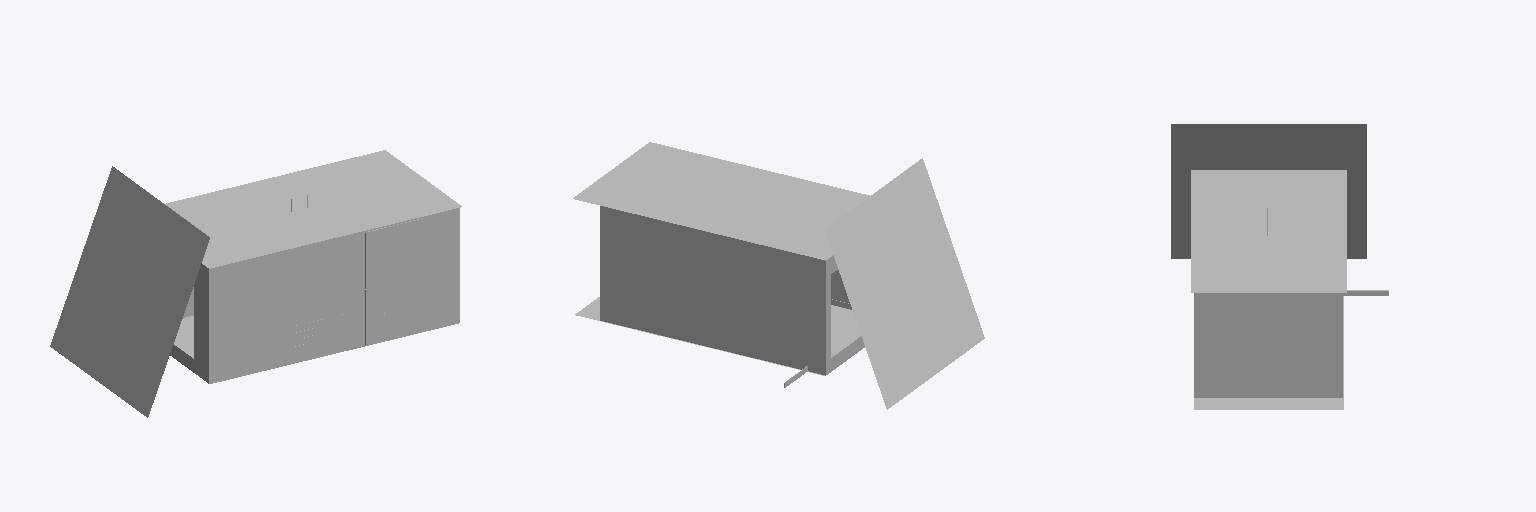
File: dining_room.obj
3 views of the same model, side by side, from view 1: azimuth 30°, elevation 25°; view 2: azimuth 150°, elevation 25°; view 3: azimuth 270°, elevation 25° (orthographic).
Visible parts, largest first — view 1: OuterLight_Plane.005, WallWithPaper_Plane.004, RoofTop_Plane.002, WallPads_Cube.004, MainStructure_Plane, CabinetBody_Cube.013, Drawers_Cube.008; view 2: MainStructure_Plane, OuterLight_Plane.005, RoofTop_Plane.002, MainFloor_Plane.003; view 3: RoofTop_Plane.002, MainStructure_Plane, OuterLight_Plane.005, MainFloor_Plane.003.
Boxes of the visible parts, x1,y1,x2,y2 form: OuterLight_Plane.005: [50, 166, 209, 417]; WallWithPaper_Plane.004: [209, 208, 459, 383]; RoofTop_Plane.002: [165, 150, 461, 268]; WallPads_Cube.004: [365, 218, 421, 345]; MainStructure_Plane: [170, 263, 208, 383]; CabinetBody_Cube.013: [314, 314, 343, 348]; Drawers_Cube.008: [293, 321, 313, 353]; MainStructure_Plane: [600, 206, 864, 375]; OuterLight_Plane.005: [825, 158, 984, 409]; RoofTop_Plane.002: [573, 142, 869, 260]; MainFloor_Plane.003: [575, 297, 855, 375]; RoofTop_Plane.002: [1191, 170, 1346, 292]; MainStructure_Plane: [1194, 293, 1342, 397]; OuterLight_Plane.005: [1171, 124, 1366, 258]; MainFloor_Plane.003: [1194, 296, 1343, 409].
Size of the model in its own units: 11.48 by 5.58 by 6.68.